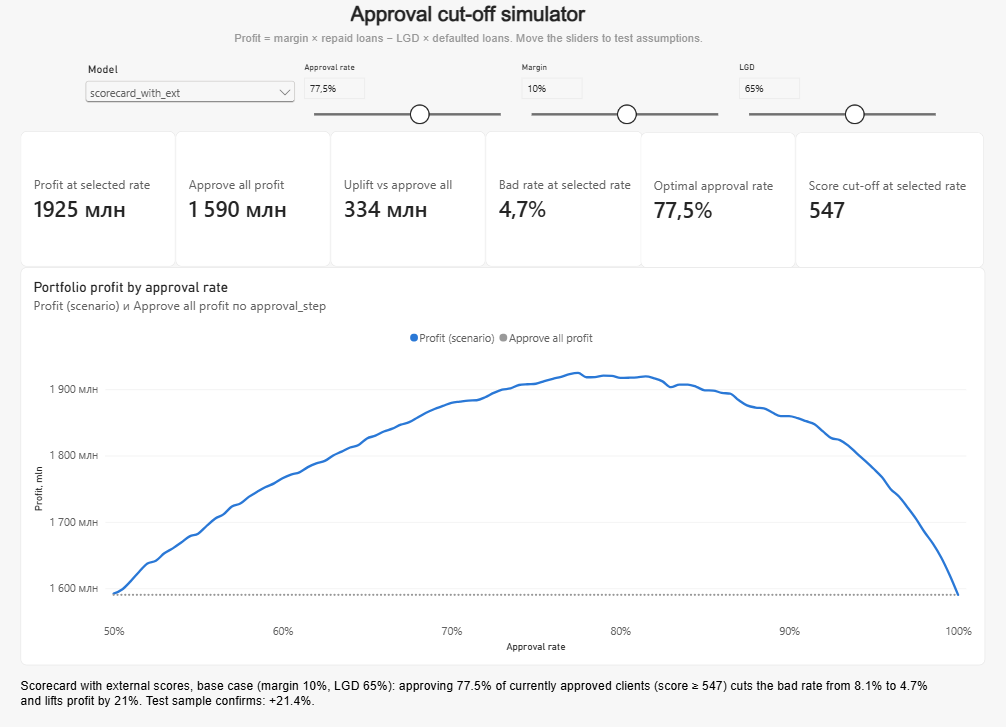

The dashboard page shown, as its layout file describes it:
{"tool":"powerbi","page":{"name":"Cut-off simulator","canvas":[1920,1080],"ordinal":0},"visuals":[{"type":"slicer","fields":{"Values":["Margin.Margin"]},"box":[1003.1,84.8,280,107.5],"z":0},{"type":"slicer","fields":{"Values":["LGD.LGD"]},"box":[1283.1,84.8,280,110],"z":1000},{"type":"slicer","fields":{"Values":["Approval rate.Approval rate"]},"box":[723.1,84.8,280,107.5],"z":2000},{"type":"textbox","box":[300,0,280,280],"z":3000},{"type":"textbox","box":[790.6,3.5,322.5,40],"z":4000},{"type":"textbox","box":[641.1,43.5,623.3,41.7],"z":5000},{"type":"slicer","fields":{"Values":["model_comparison.model"]},"box":[443.1,84.8,280,75],"z":6000},{"type":"cardVisual","fields":{"Data":["profit_curve.Approve all profit"]},"box":[564.4,173.9,200,175],"z":7000},{"type":"cardVisual","fields":{"Data":["profit_curve.Uplift vs approve all"]},"box":[764.4,173.9,200,175],"z":8000},{"type":"cardVisual","fields":{"Data":["profit_curve.Bad rate at selected rate"]},"box":[964.4,173.5,203.3,175],"z":9000},{"type":"cardVisual","fields":{"Data":["profit_curve.Optimal approval rate"]},"box":[1164.4,175.2,200,175],"z":10000},{"type":"cardVisual","fields":{"Data":["profit_curve.Profit at selected rate"]},"box":[364.4,173.9,200,175],"z":11000},{"type":"cardVisual","fields":{"Data":["profit_curve.Score cut-off at selected rate"]},"box":[1364.4,175.2,243.3,175],"z":12000},{"type":"lineChart","title":"Portfolio profit by approval rate","fields":{"Category":["profit_curve.approval_step"],"Y":["profit_curve.Profit (scenario)","profit_curve.Approve all profit"]},"box":[364.4,350.2,1245,513.3],"z":13000},{"type":"textbox","box":[364.4,880.2,1201.7,203.3],"z":14000}]}

Visuals, with their boxes on the page's 1920x1080 design canvas (x1, y1, x2, y2). These are canvas units, not pixel positions in the 1006x727 screenshot, which may show the page scaled, cropped or inside an application window:
slicer - Margin.Margin: 1003, 85, 1283, 192
slicer - LGD.LGD: 1283, 85, 1563, 195
slicer - Approval rate.Approval rate: 723, 85, 1003, 192
textbox: 300, 0, 580, 280
textbox: 791, 4, 1113, 44
textbox: 641, 44, 1264, 85
slicer - model_comparison.model: 443, 85, 723, 160
cardVisual - profit_curve.Approve all profit: 564, 174, 764, 349
cardVisual - profit_curve.Uplift vs approve all: 764, 174, 964, 349
cardVisual - profit_curve.Bad rate at selected rate: 964, 174, 1168, 348
cardVisual - profit_curve.Optimal approval rate: 1164, 175, 1364, 350
cardVisual - profit_curve.Profit at selected rate: 364, 174, 564, 349
cardVisual - profit_curve.Score cut-off at selected rate: 1364, 175, 1608, 350
"Portfolio profit by approval rate" lineChart: 364, 350, 1609, 864
textbox: 364, 880, 1566, 1084
